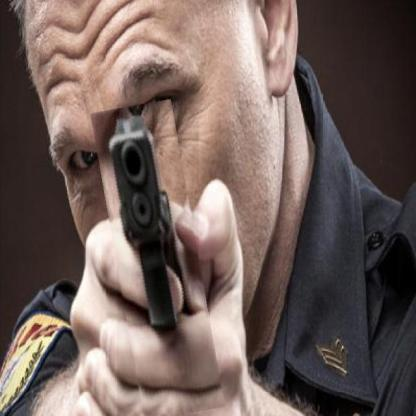handgun: (103, 101, 212, 416)
